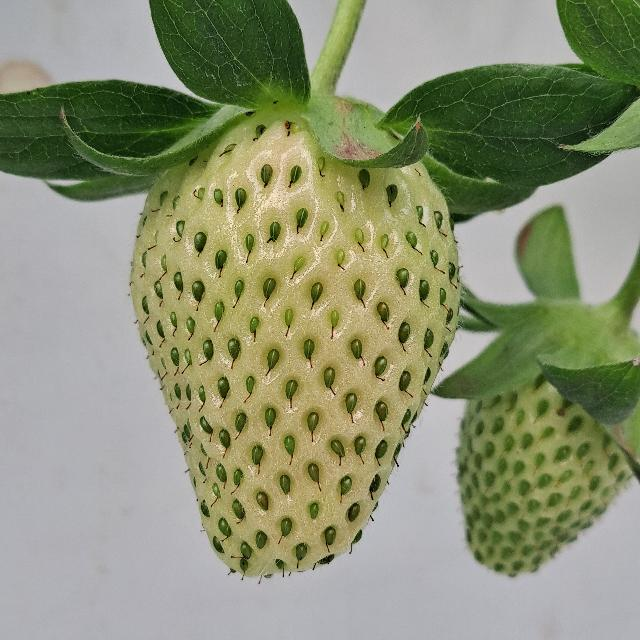Health_25: (129, 108, 461, 578), (454, 303, 640, 577)
